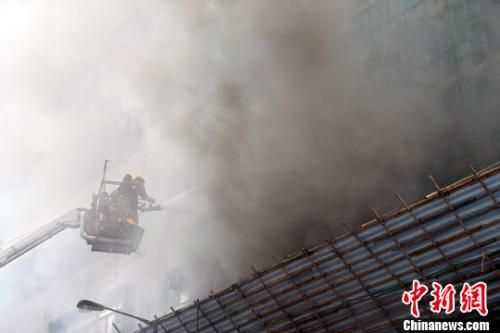smoke: (49, 16, 439, 203)
